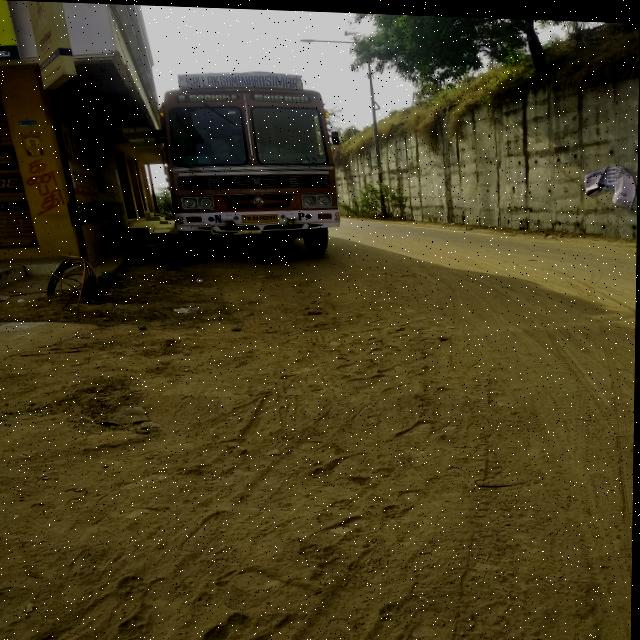plate: (241, 210, 281, 223)
